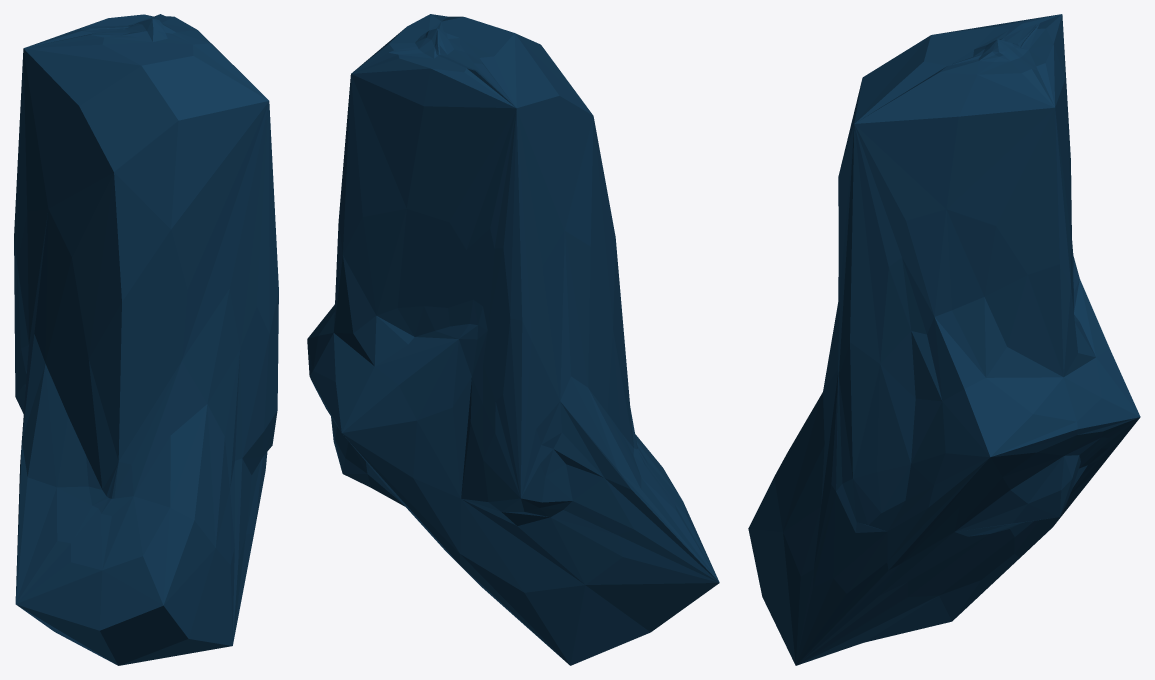
3 renders of one model, left to right at view 1: azimuth 30°, elevation 25°; view 2: azimuth 150°, elevation 25°; view 3: azimuth 270°, elevation 25°, orthographic. The views are drawn at different scales.
Visible parts, largest first — view 1: 394_Cube.1601; view 2: 394_Cube.1601; view 3: 394_Cube.1601.
Part boxes in pixels (x1,y1,x2,y2): 394_Cube.1601: (14,14,278,665); 394_Cube.1601: (307,14,719,665); 394_Cube.1601: (748,14,1140,665).
Size of the model in its own units: 10.35 by 17.8 by 9.86.
